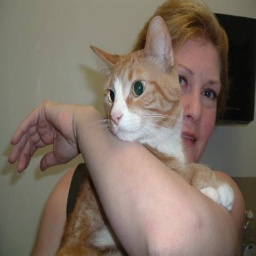cat: (79, 37, 233, 247)
